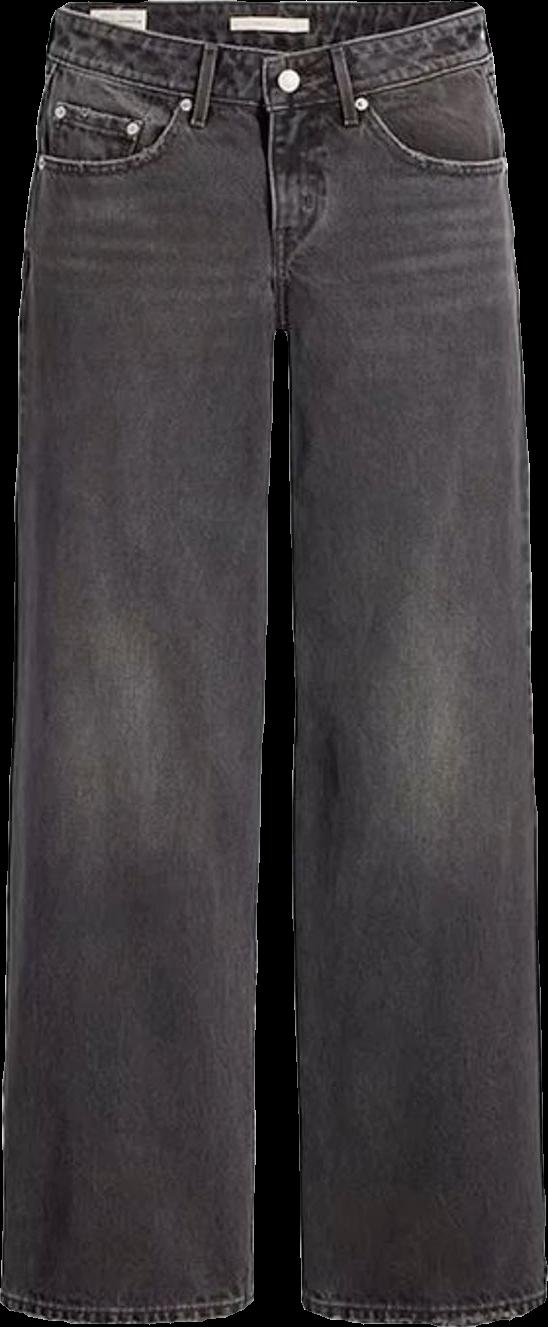Hemline: (301, 1282, 547, 1326), (0, 1289, 252, 1325)
Pantleg: (259, 0, 546, 1326), (0, 0, 277, 1324)
Waistline: (42, 53, 500, 112), (58, 5, 484, 55)
